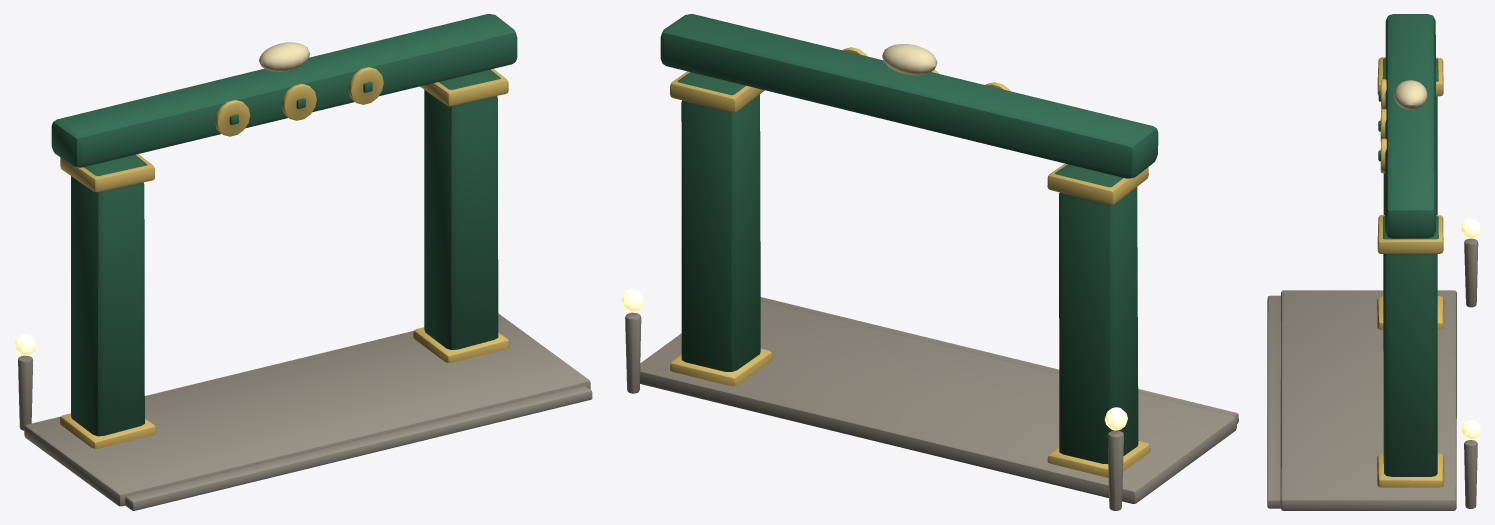
The picture shows the model from 3 angles, left to right: view 1: azimuth 30°, elevation 25°; view 2: azimuth 150°, elevation 25°; view 3: azimuth 270°, elevation 25°; orthographic projection. The views are drawn at different scales.
Parts seen in each view (by area): view 1: gate_41c1d894; view 2: gate_41c1d894; view 3: gate_41c1d894.
Boxes of the visible parts, x1,y1,x2,y2 form: gate_41c1d894: (14,14,592,510); gate_41c1d894: (621,14,1238,510); gate_41c1d894: (1267,14,1480,510).
Bounding box in the file's own units: 5.94 × 4.25 × 2.55.
